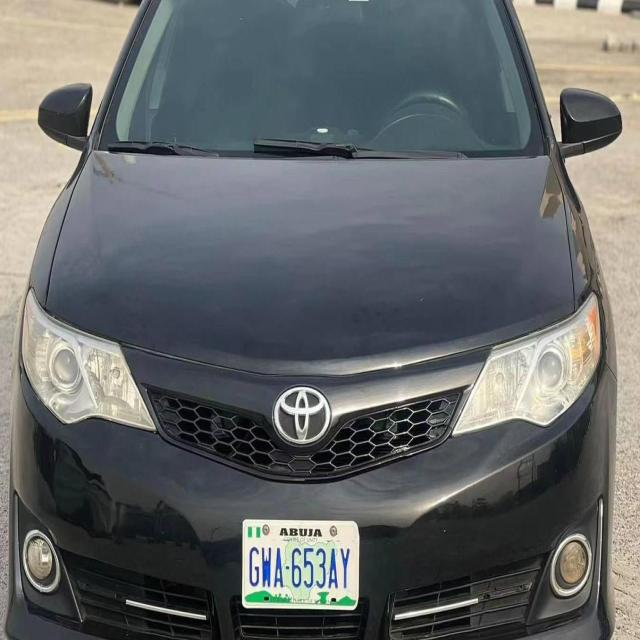Nigerian License Plate - vdataset benjamin-daria: (241, 514, 362, 618)
